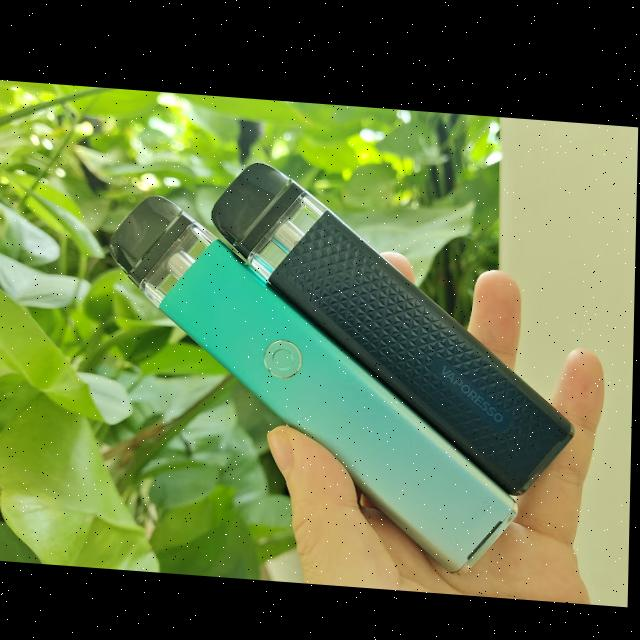vape: (112, 193, 521, 570), (214, 159, 576, 489)
